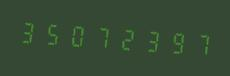five: (41, 14, 64, 52)
nine: (161, 23, 184, 60)
seven: (185, 24, 208, 62), (89, 18, 112, 55)
three: (137, 21, 160, 59), (17, 13, 40, 50)
two: (113, 19, 136, 57)
zero: (65, 16, 88, 54)
